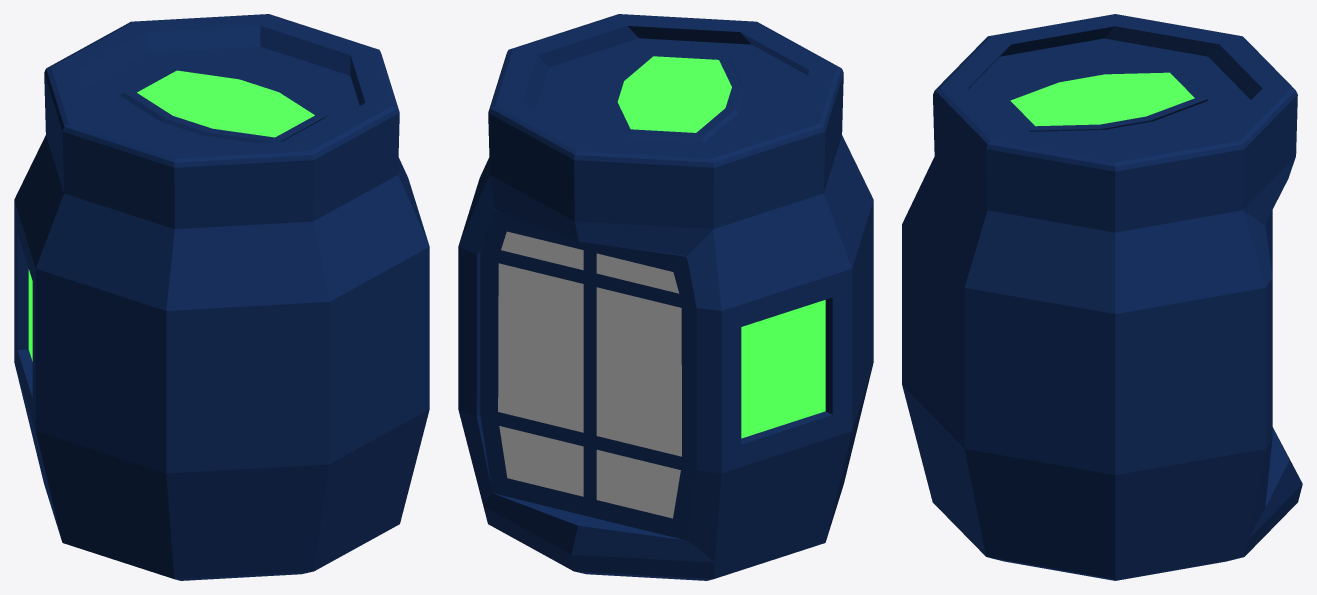
Rendered from cargocontainer.glb.
3 renders of one model, left to right at view 1: azimuth 30°, elevation 25°; view 2: azimuth 150°, elevation 25°; view 3: azimuth 270°, elevation 25°, orthographic.
Parts seen in each view (by area): view 1: cilindro, pannello; view 2: cilindro, cilindro.001, oblo, pannello; view 3: cilindro, pannello.
Boxes of the visible parts, left/top/right/bottom form: cilindro: left=14, top=14, right=429, bottom=580; pannello: left=137, top=70, right=314, bottom=137; cilindro: left=458, top=14, right=873, bottom=580; cilindro.001: left=498, top=231, right=681, bottom=518; oblo: left=741, top=300, right=825, bottom=438; pannello: left=617, top=56, right=731, bottom=132; cilindro: left=902, top=14, right=1302, bottom=580; pannello: left=1010, top=72, right=1194, bottom=126.
Bounding box in the file's own units: 2.33 × 2.57 × 2.19.
